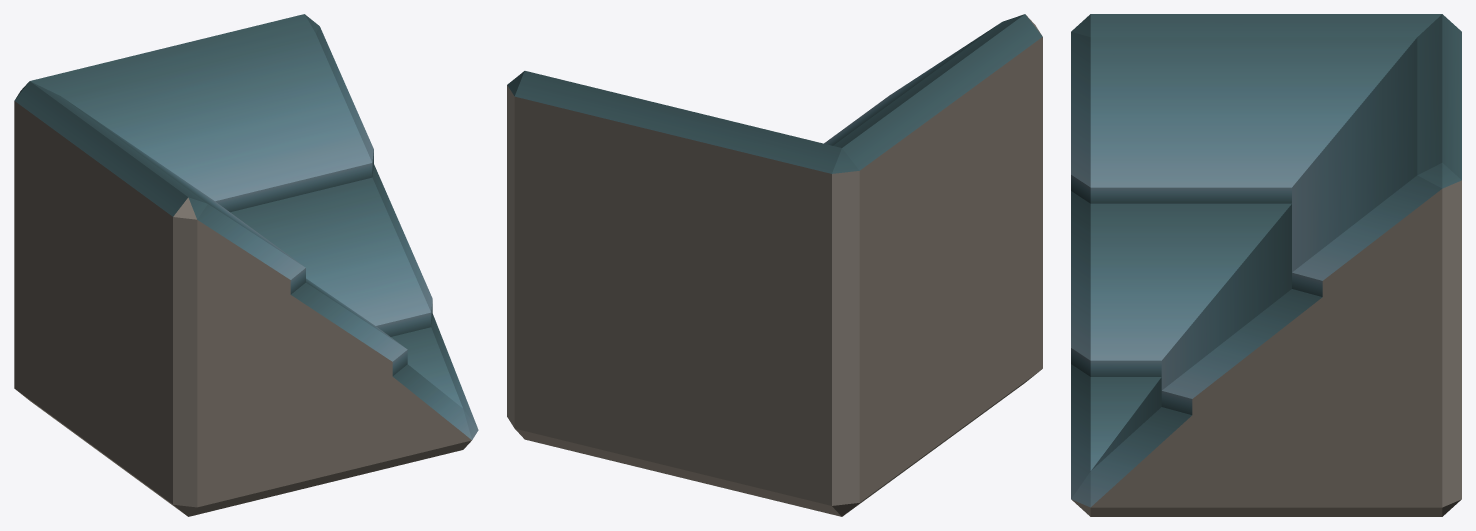
File: m_kub_roofGrey_cornerIn.FBX
3 views of the same model, side by side, from view 1: azimuth 30°, elevation 25°; view 2: azimuth 150°, elevation 25°; view 3: azimuth 270°, elevation 25° (orthographic). The views are drawn at different scales.
Parts seen in each view (by area): view 1: m_kub_roofGrey_cornerIn; view 2: m_kub_roofGrey_cornerIn; view 3: m_kub_roofGrey_cornerIn.
Part boxes in pixels (x1,y1,x2,y2): m_kub_roofGrey_cornerIn: (14,14,478,516); m_kub_roofGrey_cornerIn: (507,14,1042,516); m_kub_roofGrey_cornerIn: (1071,14,1461,516).
Bounding box in the file's own units: 2 × 2 × 2.
